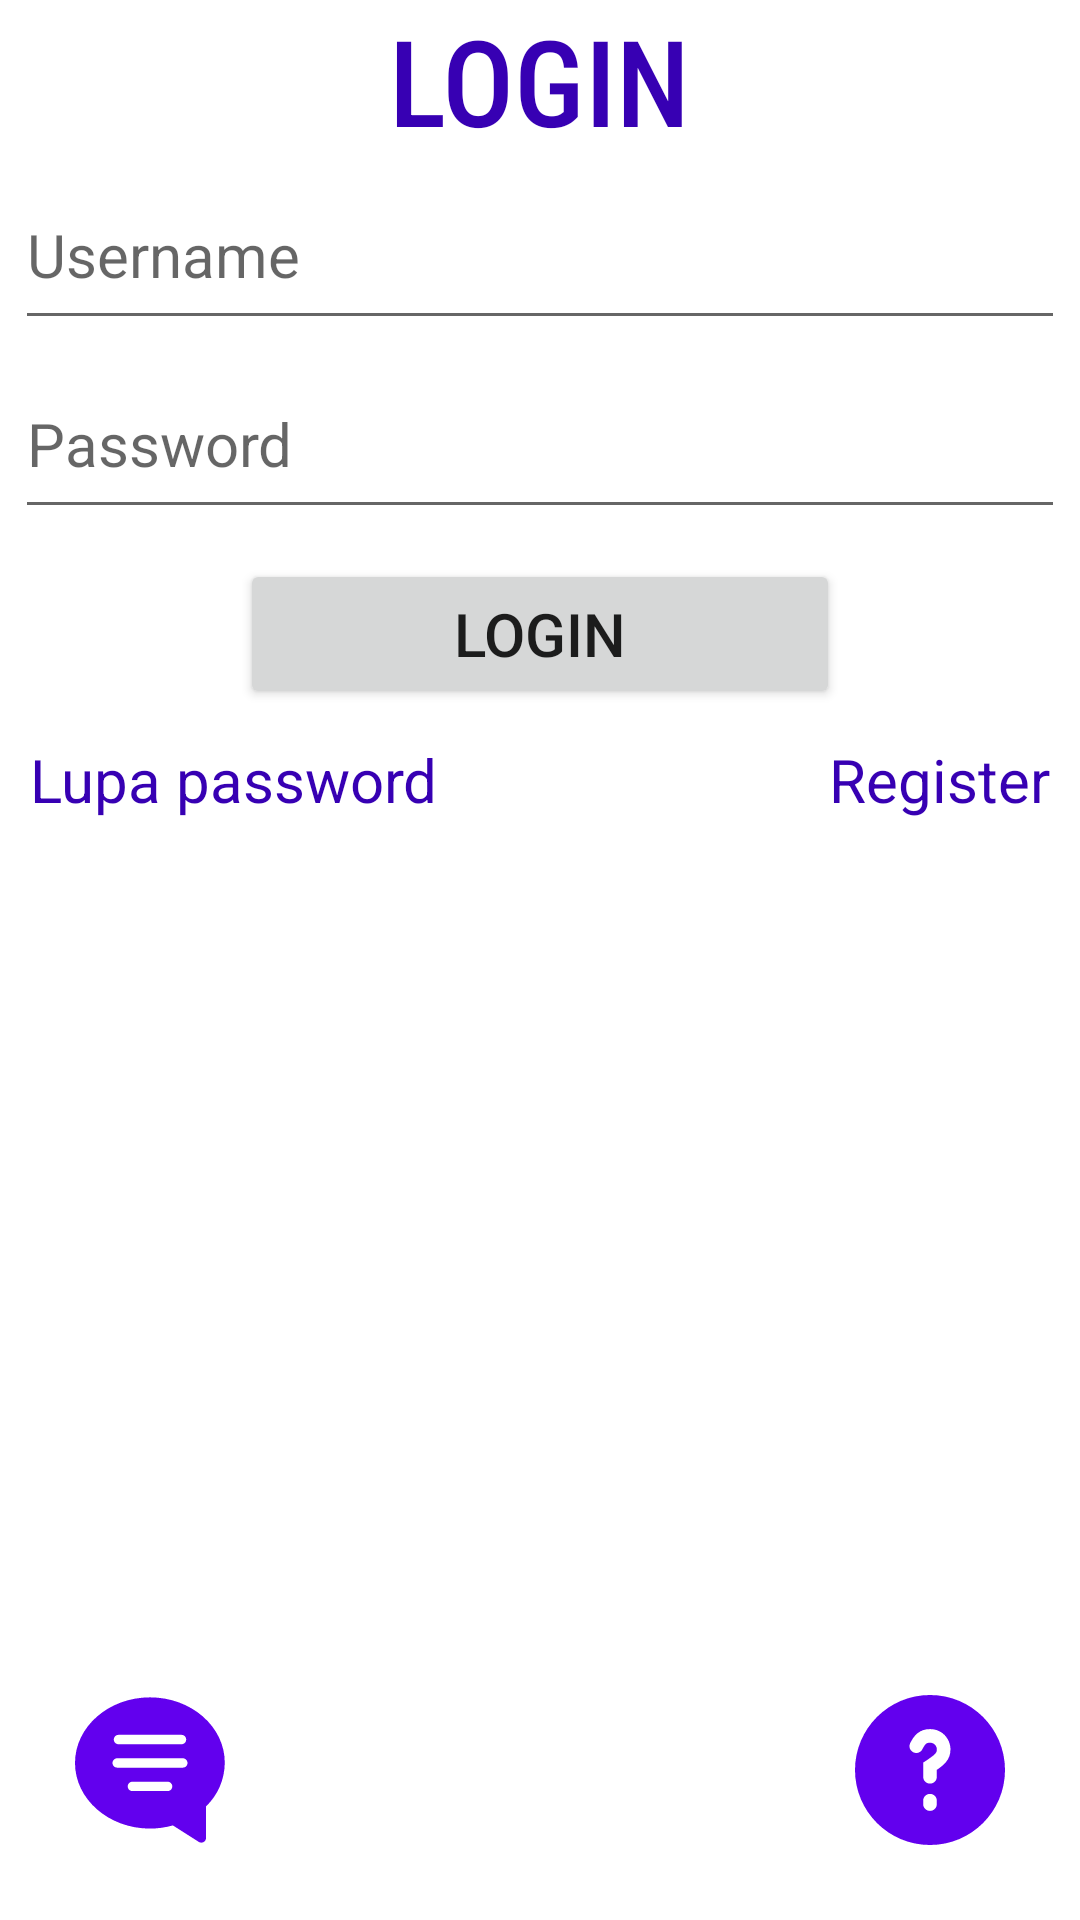

Locate icon controls on the screen. Image size 1080x1920, boxes as box(x1, y1, x2, y2).
bantuan: box(855, 1695, 1005, 1845)
chats: box(75, 1697, 225, 1843)
